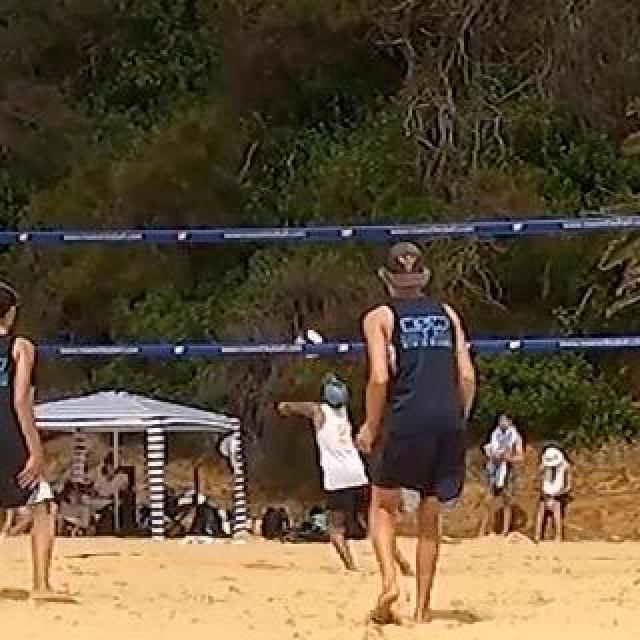volleyball: (293, 329, 325, 361)
